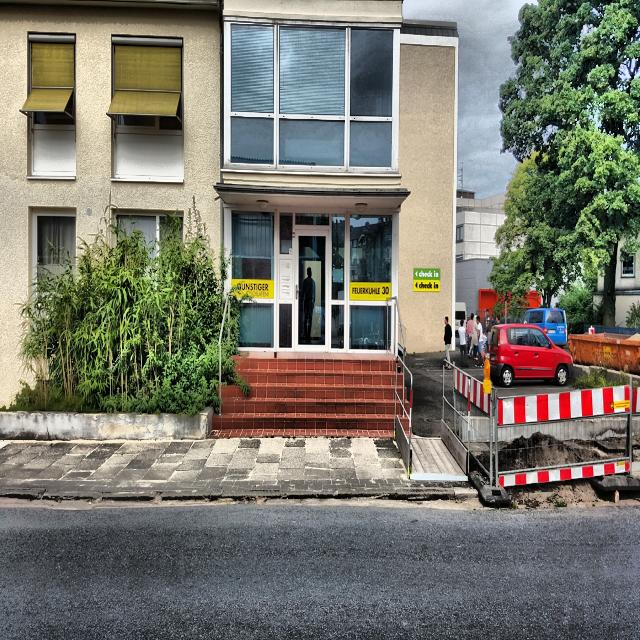escada: (212, 350, 410, 430)
